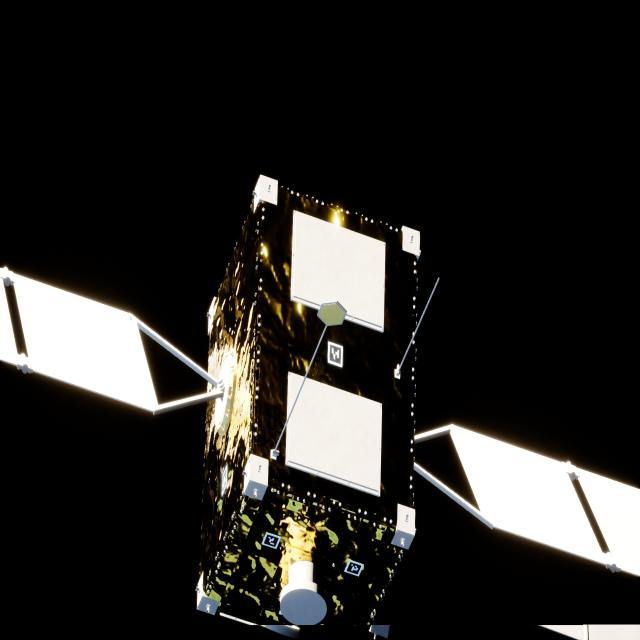medium_debris: (0, 177, 640, 640)
